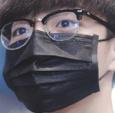with_mask: (2, 1, 115, 113)
